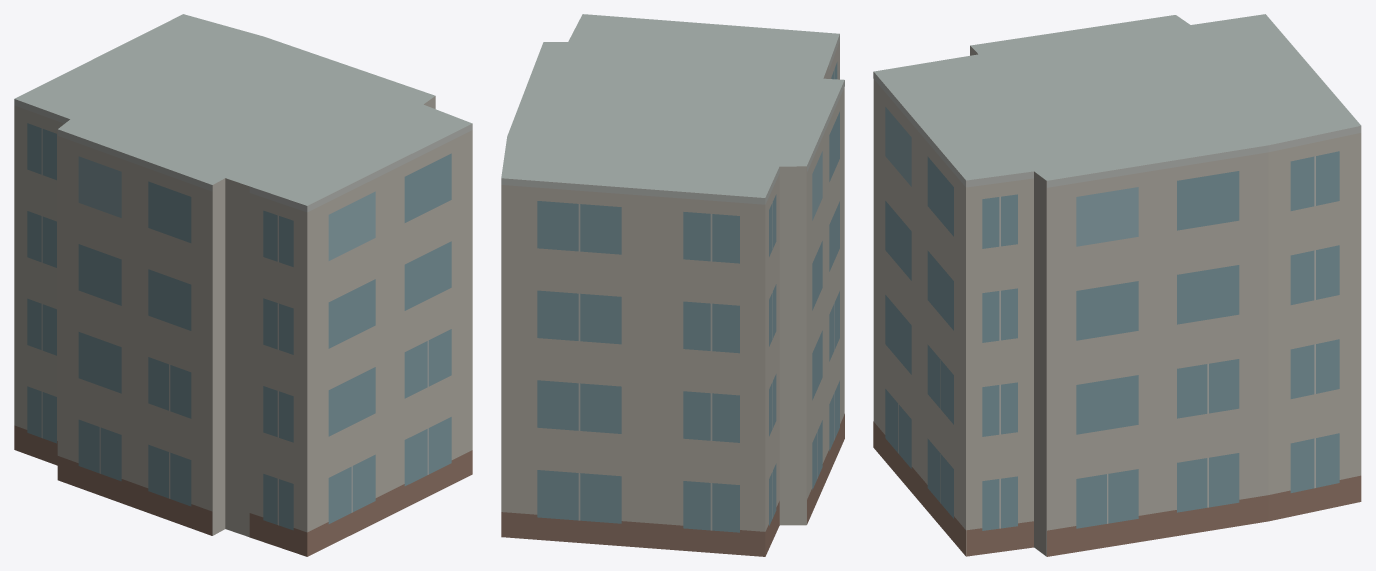
Rendered from survey-upis-32737760.glb.
The picture shows the model from 3 angles, left to right: view 1: azimuth 30°, elevation 25°; view 2: azimuth 150°, elevation 25°; view 3: azimuth 270°, elevation 25°; orthographic projection. The views are drawn at different scales.
Parts seen in each view (by area): view 1: survey-upis-32737760.tmp; view 2: survey-upis-32737760.tmp; view 3: survey-upis-32737760.tmp.
Part boxes in pixels (left/top/right/bottom): survey-upis-32737760.tmp: left=14, top=14, right=472, bottom=556; survey-upis-32737760.tmp: left=501, top=14, right=844, bottom=556; survey-upis-32737760.tmp: left=873, top=14, right=1361, bottom=556.
Size of the model in its own units: 12.48 by 13.1 by 15.41.
